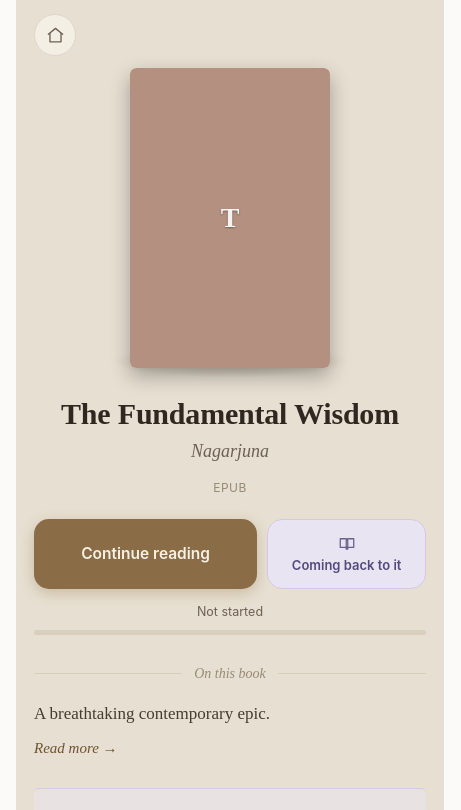
Test: BookInfo › what the catalogue said › clamps the description, and opens it on Read more
The width and height of the screenshot is (461, 810).
Check: the text "A breathtaking contemporary epic." is shown, box x1=34 y1=704 x2=270 y2=723
Click the button "Read more →" at (76, 759), box x1=34 y1=731 x2=118 y2=788
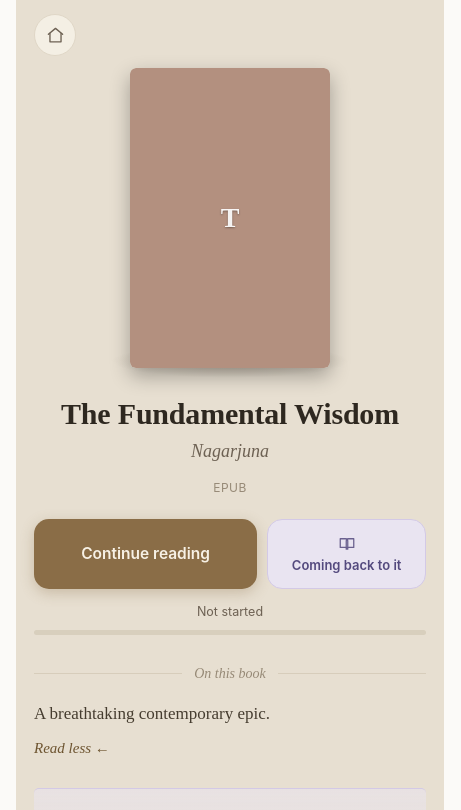
Check: the button "Read less ←" is expanded, box x1=34 y1=731 x2=110 y2=788
